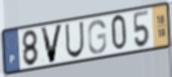0: (109, 13, 128, 54)
5: (132, 8, 151, 50)
8: (21, 29, 40, 68)
G: (87, 19, 108, 55)
U: (64, 21, 85, 60)
V: (39, 23, 65, 65)
